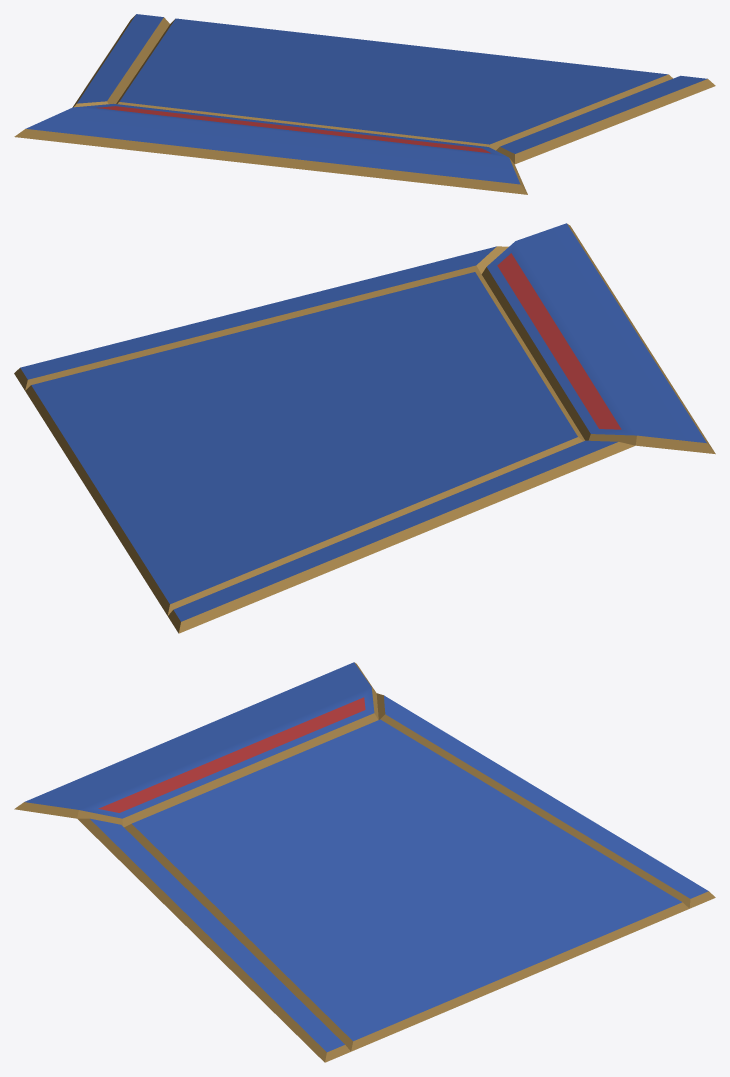
The model's file is SM_Ramp_02.fbx.
3 renders of one model, top to bottom at view 1: azimuth 30°, elevation 25°; view 2: azimuth 150°, elevation 25°; view 3: azimuth 270°, elevation 25°, orthographic. The views are drawn at different scales.
Visible parts, largest first — view 1: SM_Ramp_02; view 2: SM_Ramp_02; view 3: SM_Ramp_02.
Boxes of the visible parts, x1,y1,x2,y2 form: SM_Ramp_02: (14,14,715,194); SM_Ramp_02: (14,223,715,633); SM_Ramp_02: (14,662,715,1062).
Size of the model in its own units: 1040 by 160 by 1013.
